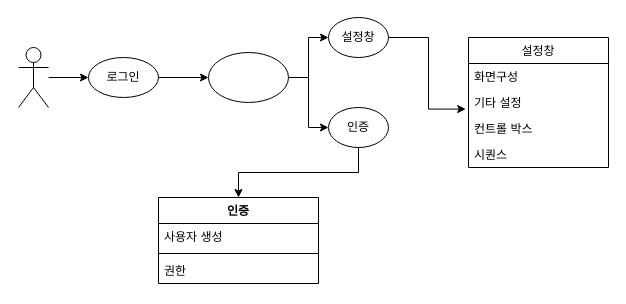
The diagram is 626 pixels wide and 304 high, and some of its shapes have lost their labels. Here are the shapes that lost their labels. From the top down, the box of each, then its label:
(18, 46, 48, 108): 관리자
(208, 52, 288, 102): 관리자 모드
